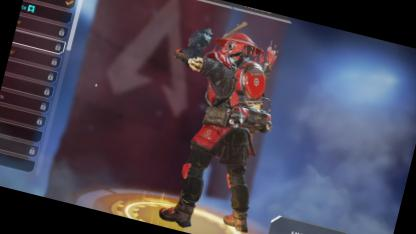Target: (176, 21, 284, 218)
